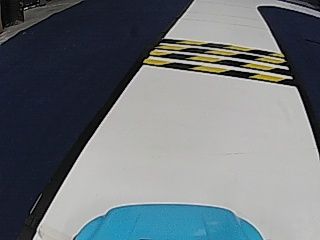bump: (159, 39, 274, 83)
